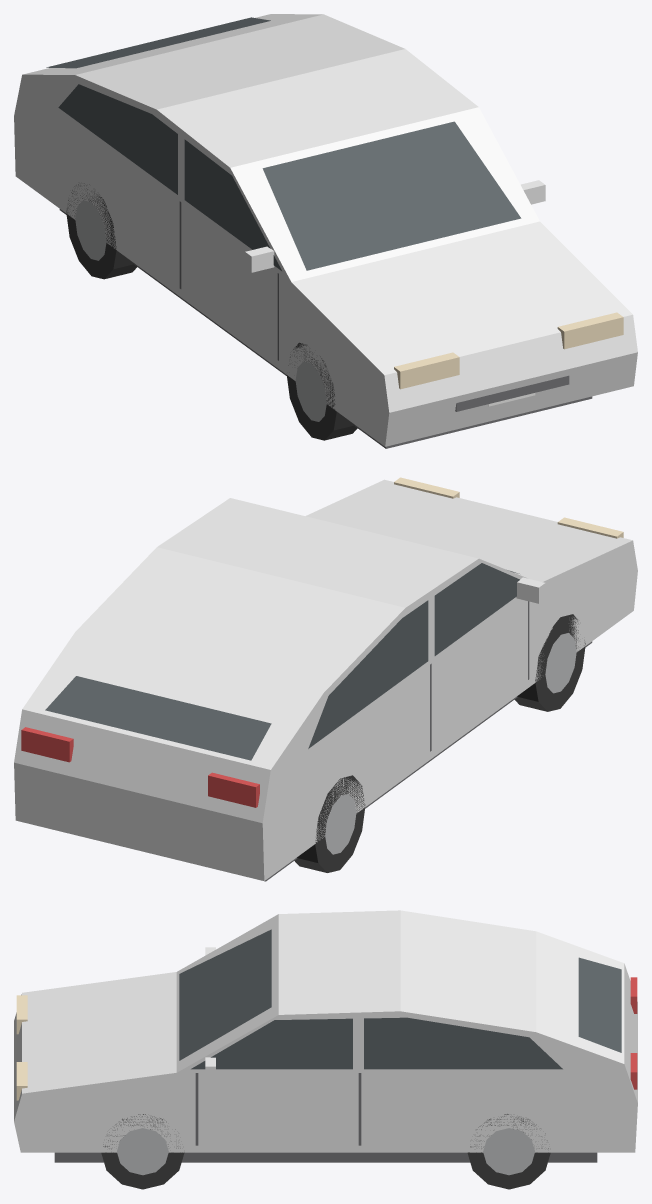
Rendered from WEB_Sedan.glb.
3 renders of one model, top to bottom at view 1: azimuth 30°, elevation 25°; view 2: azimuth 150°, elevation 25°; view 3: azimuth 270°, elevation 25°, orthographic. The views are drawn at different scales.
Visible parts, largest first — view 1: WEB_Sedan; view 2: WEB_Sedan; view 3: WEB_Sedan.
Boxes of the visible parts, bbox=[...] form: WEB_Sedan: bbox=[14, 14, 637, 448]; WEB_Sedan: bbox=[14, 477, 637, 881]; WEB_Sedan: bbox=[14, 910, 637, 1189].
Bounding box in the file's own units: 2.08 × 1.45 × 4.6.
